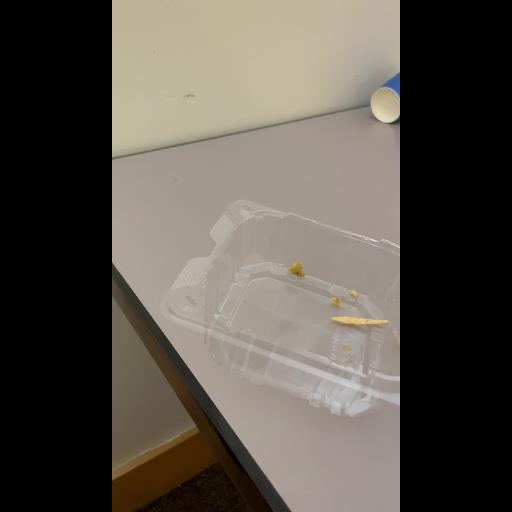lp_paper_cup: (368, 68, 400, 124)
small_plastic_container: (162, 206, 400, 412)
